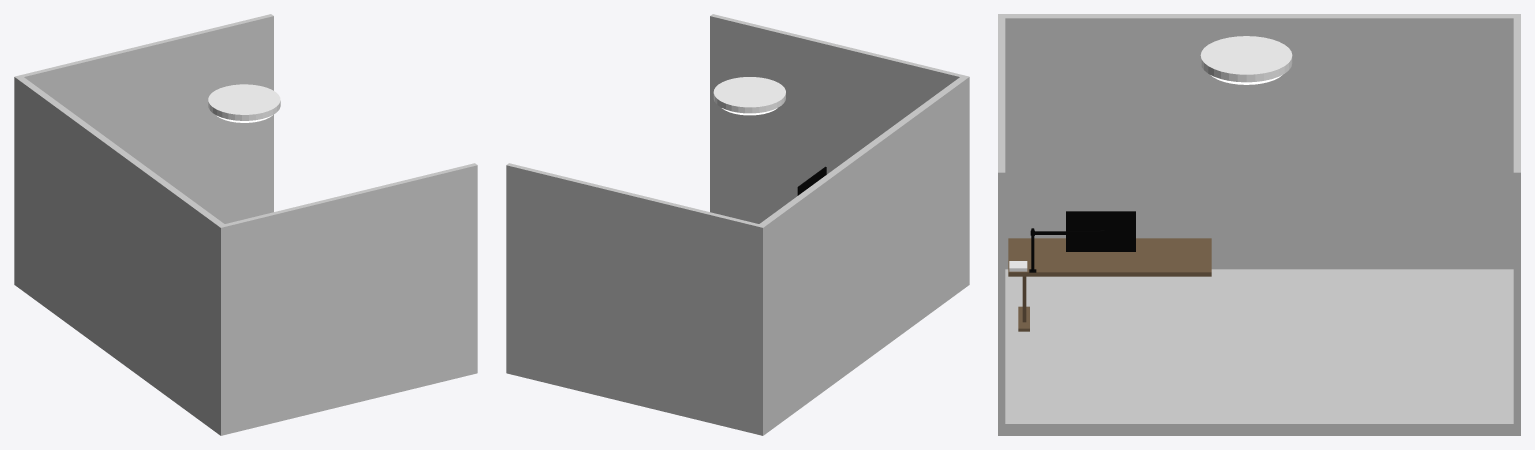
The model's file is RoomModel.gltf.
3 views of the same model, side by side, from view 1: azimuth 30°, elevation 25°; view 2: azimuth 150°, elevation 25°; view 3: azimuth 270°, elevation 25° (orthographic). The views are drawn at different scales.
Parts seen in each view (by area): view 1: Walls, Light Enclosure; view 2: Walls, Light Enclosure; view 3: Walls, Wood Desk, Light Enclosure, Monitor.
Part boxes in pixels (left/top/right/bottom): Walls: left=14, top=14, right=477, bottom=435; Light Enclosure: left=208, top=84, right=280, bottom=120; Walls: left=506, top=14, right=969, bottom=435; Light Enclosure: left=713, top=77, right=785, bottom=113; Walls: left=998, top=14, right=1520, bottom=435; Wood Desk: left=1008, top=238, right=1211, bottom=276; Light Enclosure: left=1200, top=36, right=1292, bottom=82; Monitor: left=1066, top=211, right=1135, bottom=251.
Size of the model in its own units: 2.71 by 2.37 by 3.77.
